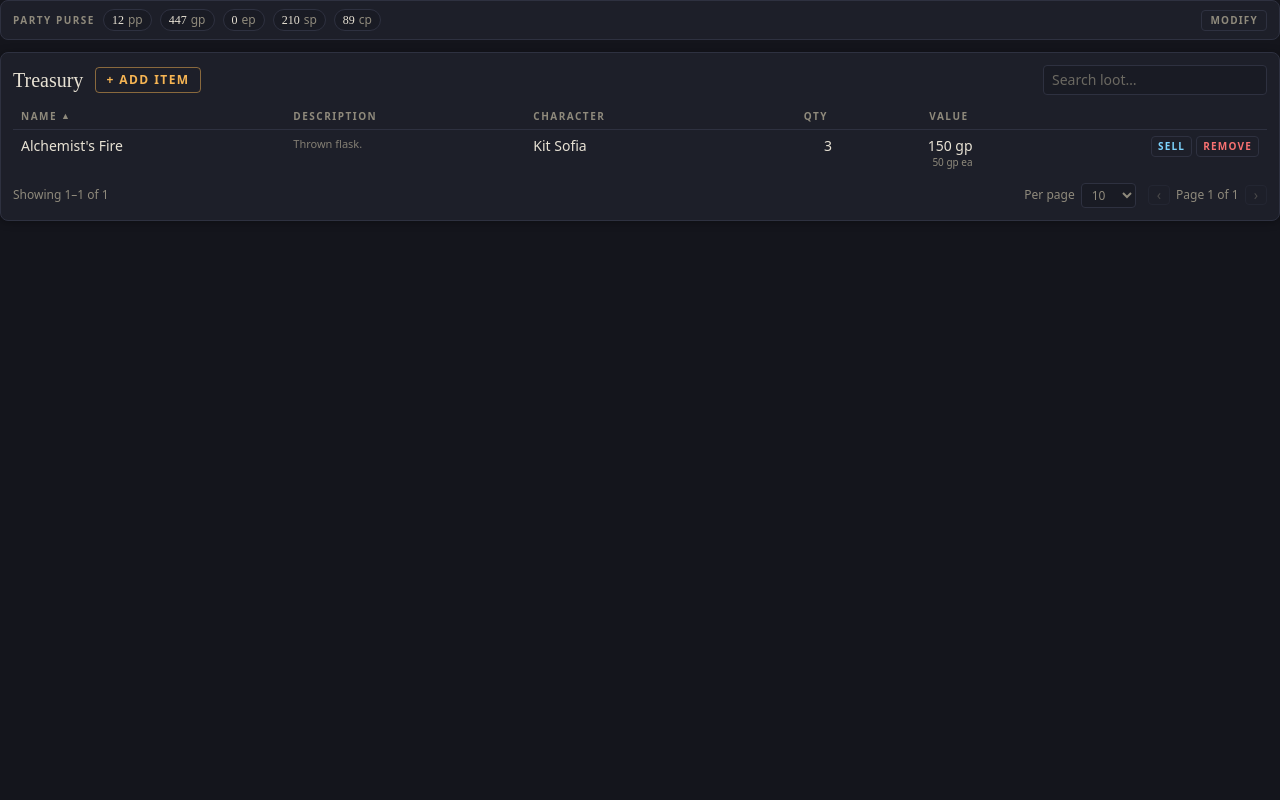
Scenario: TreasuryPanel — modify currency modal › opens pre-filled with the current purse, one row per denomination
Click the button with test id "currency-modify": (1234, 20) [1201, 10, 1267, 30]
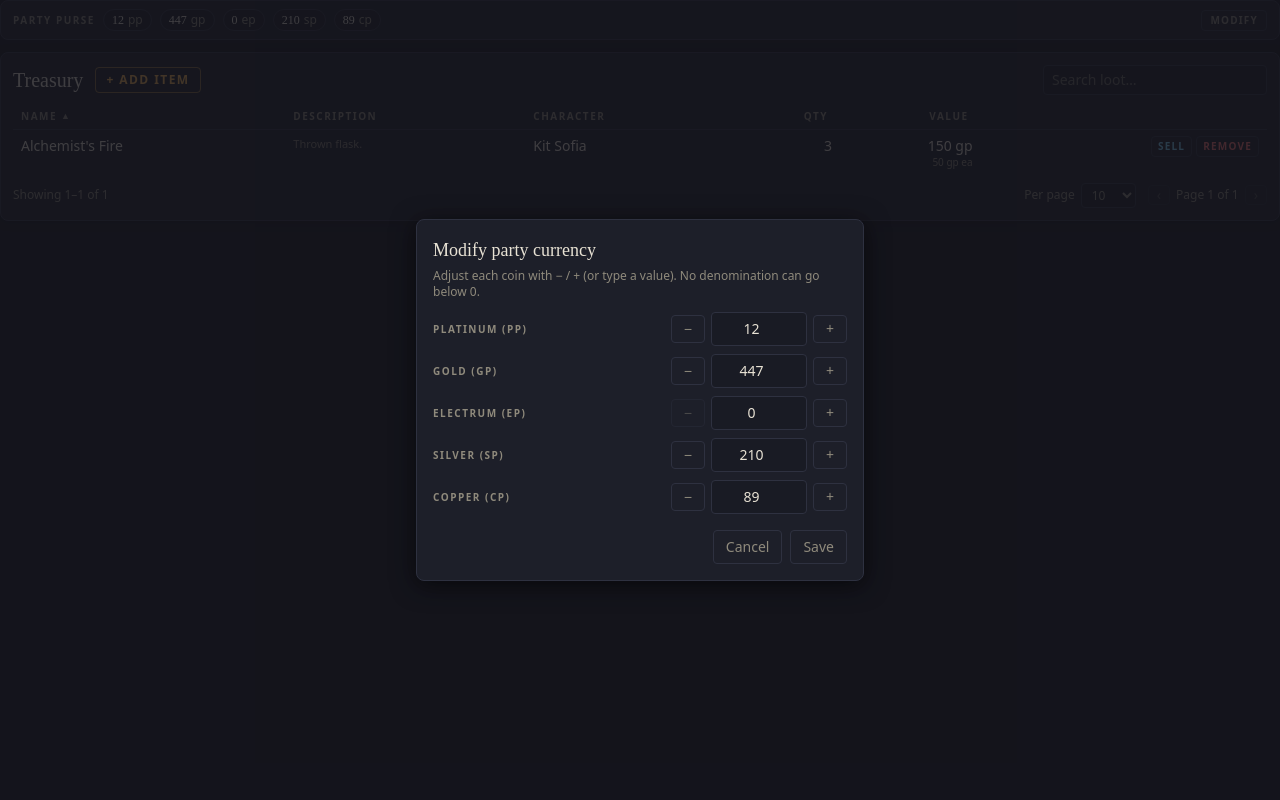
Check: the dialog with test id "modal-currency" is shown, box [416, 219, 864, 581]
